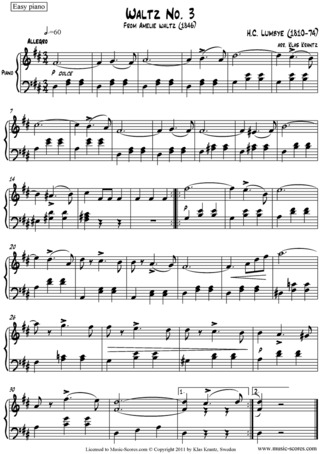Partitura: (1, 4, 318, 441)
